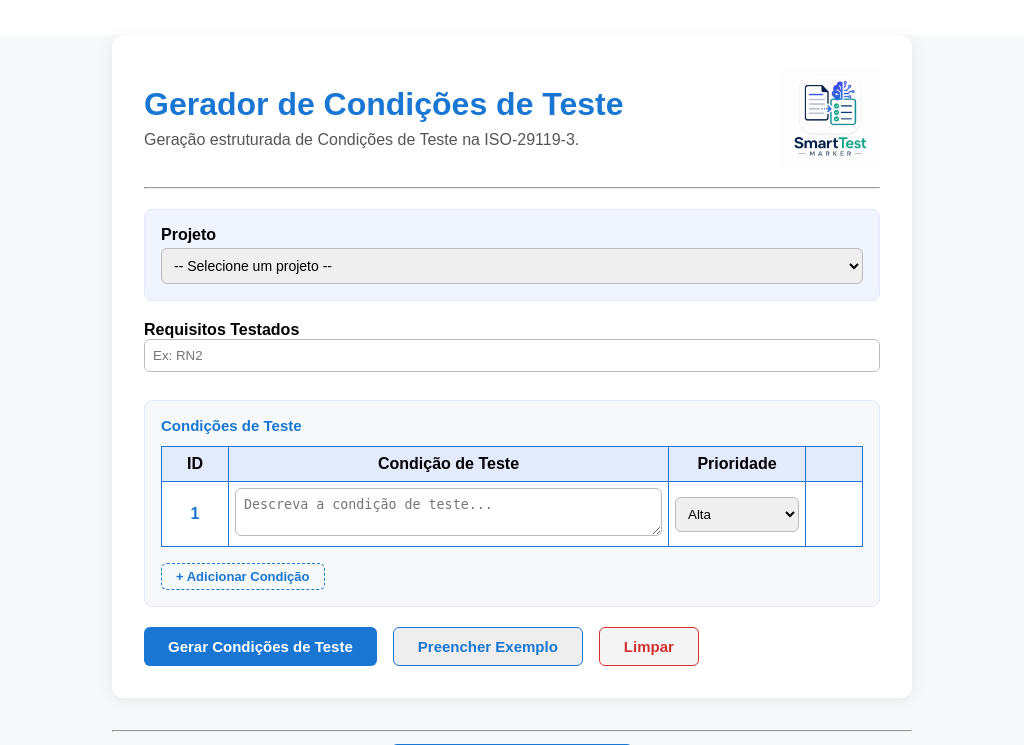
Scenario: Frontend — Gerador de Condições de Teste › Geração de condições de teste › deve gerar e exibir um documento na sidebar
Click the button "Preencher Exemplo" at (488, 647), box [393,627,583,666]
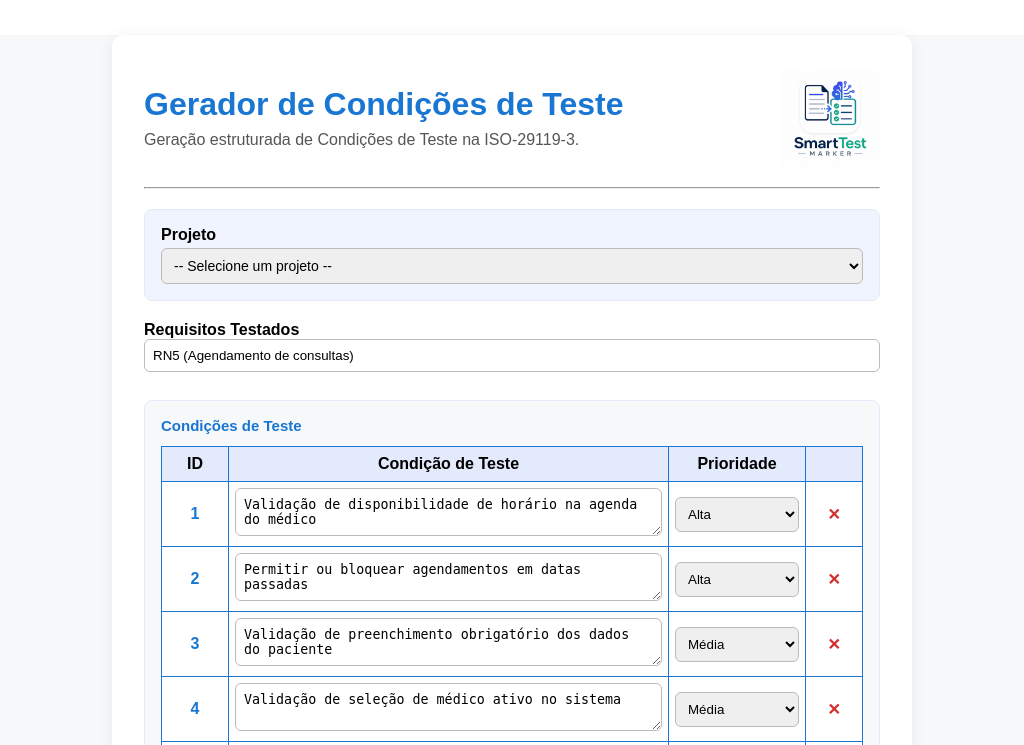
Scroll
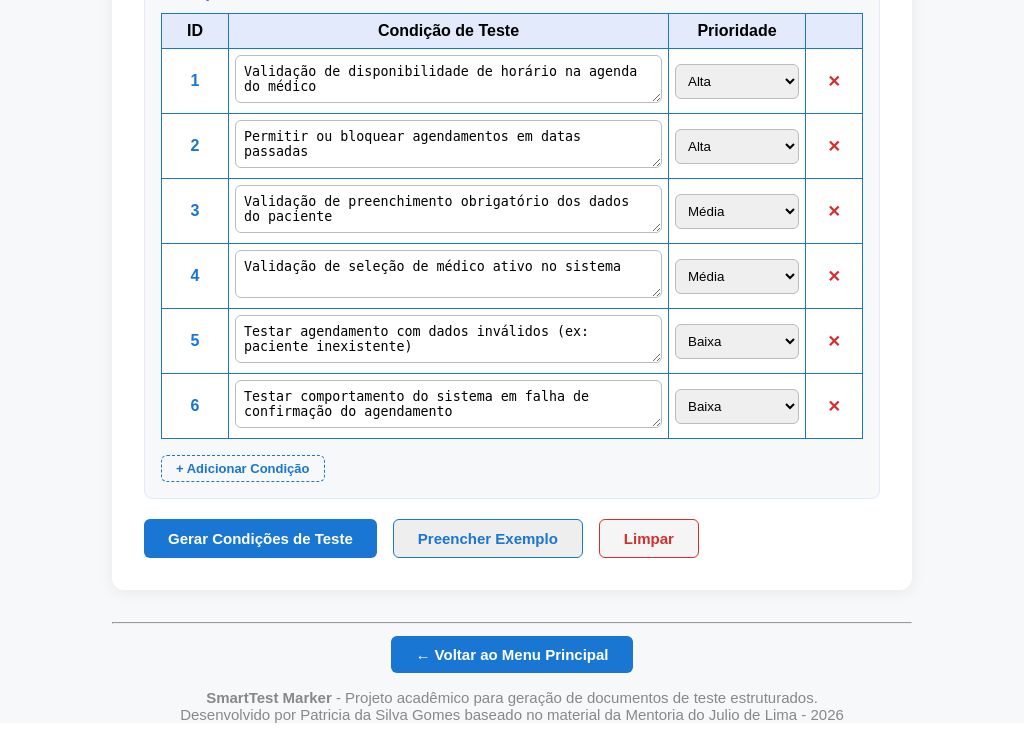
Click the button "Gerar Condições de Teste" at (261, 539), box [144,519,377,558]
(page scrolled)
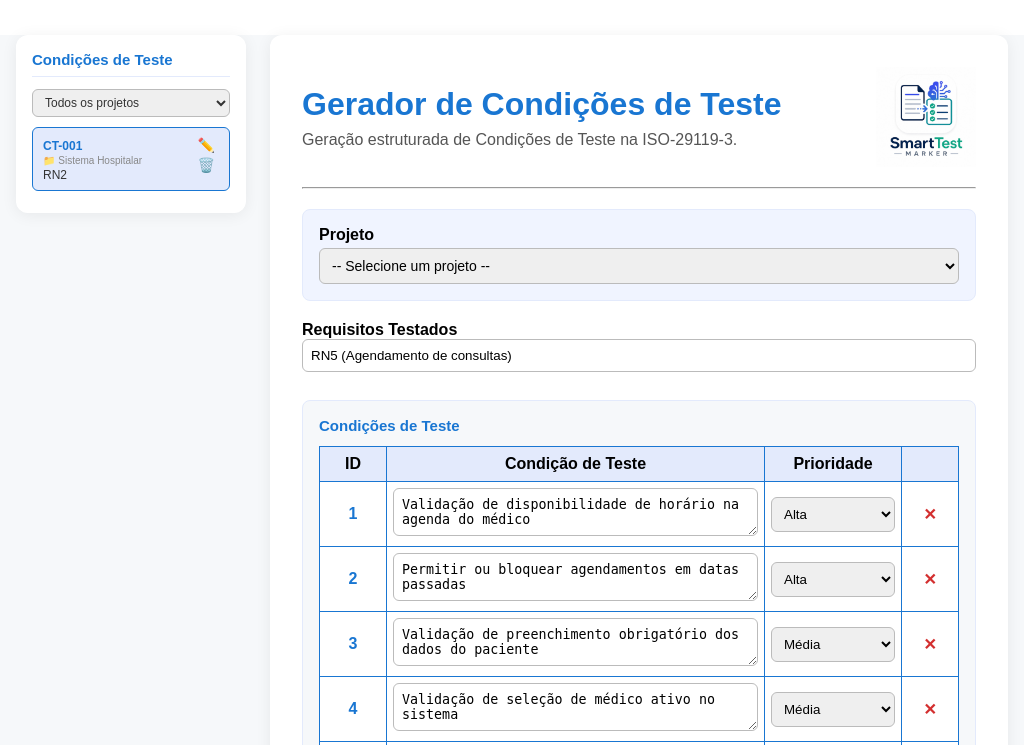
Result: the text "CT-" is shown at [43,139,82,153]
